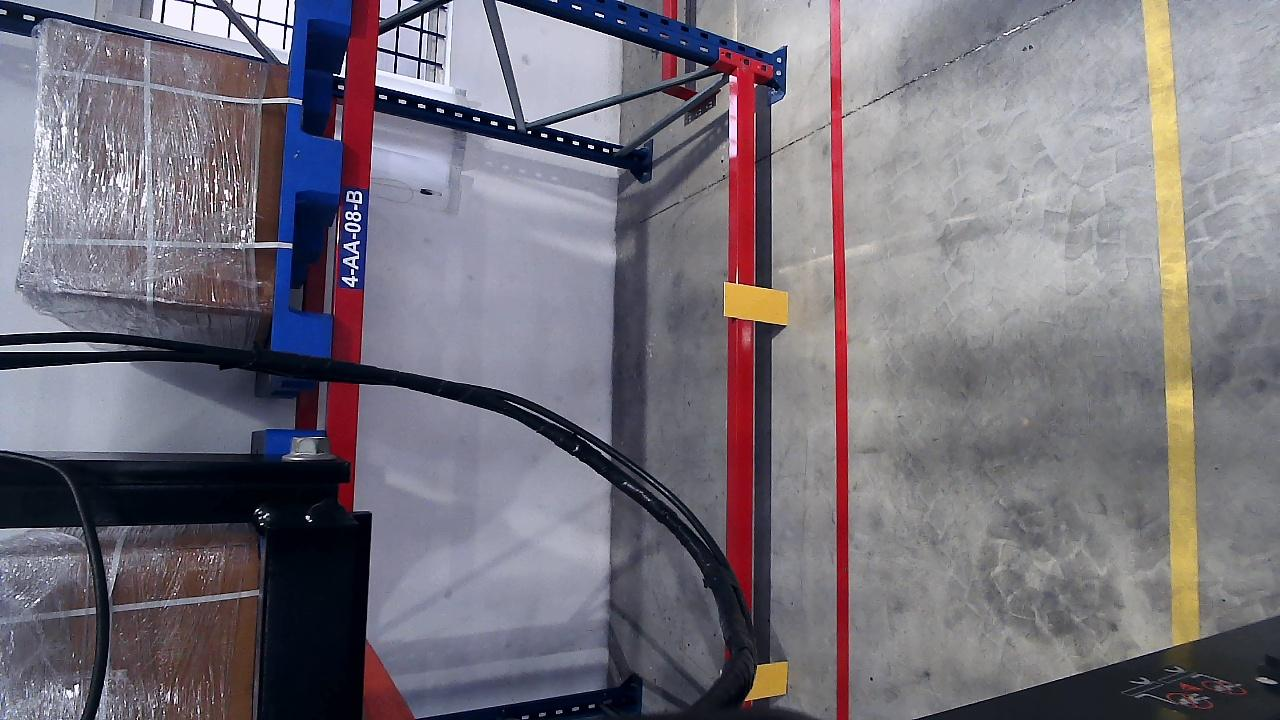h_rack: (329, 0, 385, 457), (729, 63, 761, 703)
orange_strip: (722, 282, 788, 324), (744, 662, 789, 703)
red_line: (815, 0, 852, 719)
small_pallet: (268, 0, 351, 358)
yellow_line: (1154, 0, 1200, 642)
